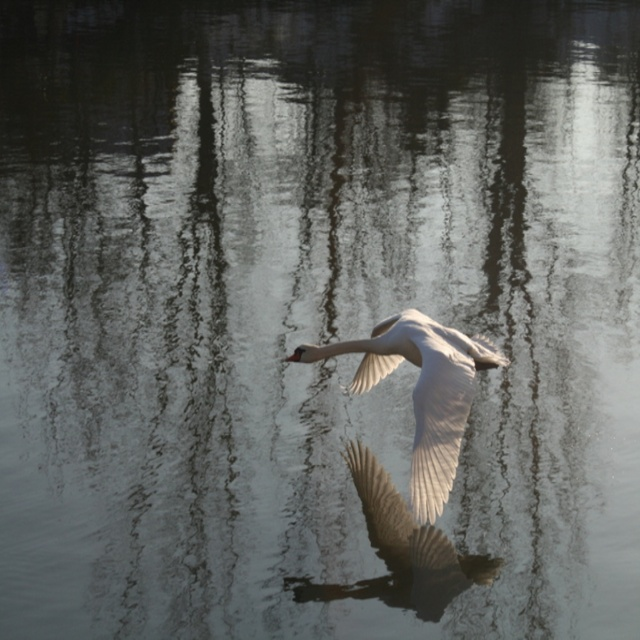Goose: (279, 307, 508, 508), (292, 439, 505, 616)
